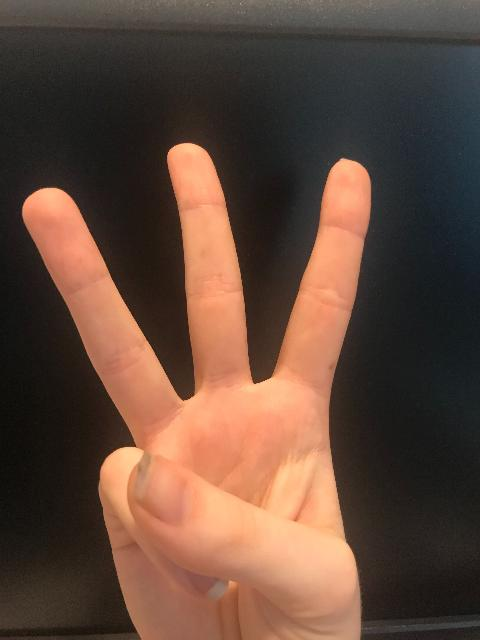W: (18, 138, 377, 640)
